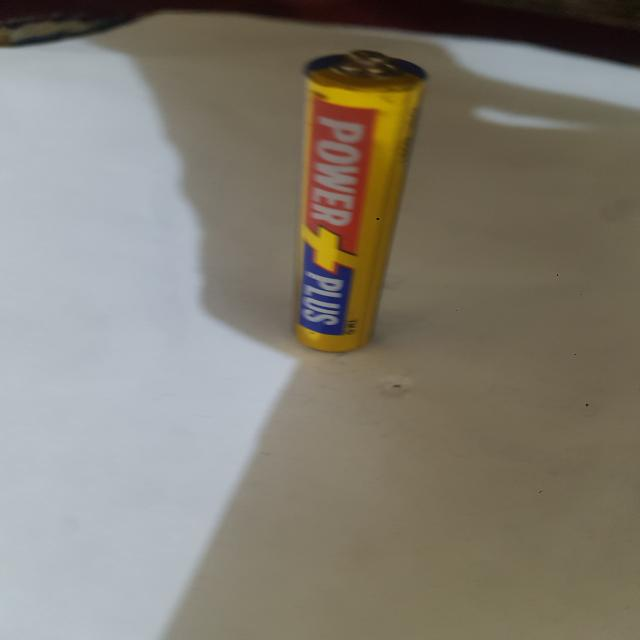electronic: (277, 27, 429, 386)
